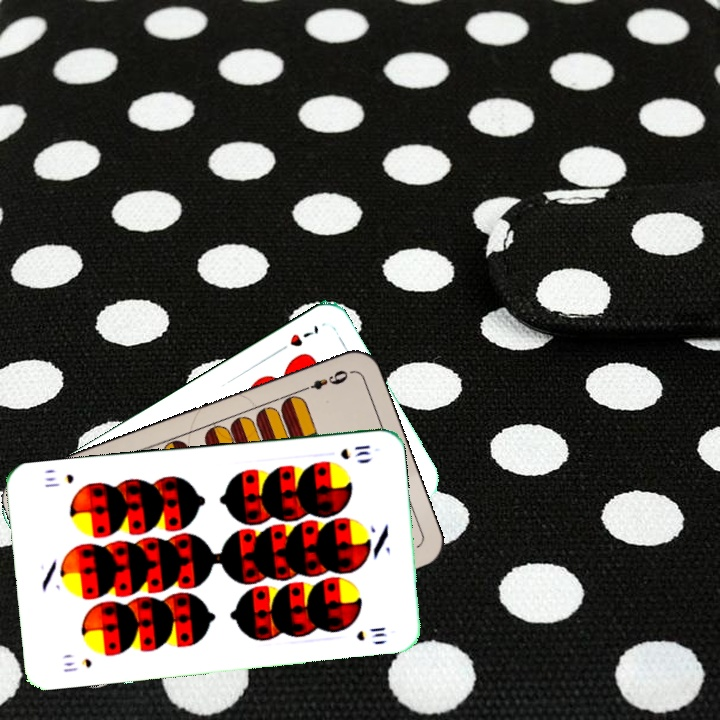E9: (296, 366, 351, 395)
H7: (271, 321, 322, 357)
S10: (336, 441, 373, 462), (59, 654, 94, 675)
